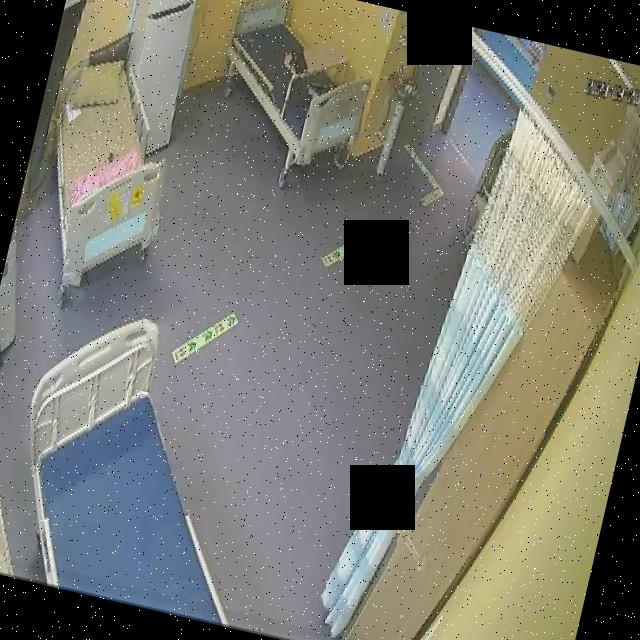bed: (0, 298, 289, 624), (21, 32, 198, 286), (203, 0, 387, 177)
